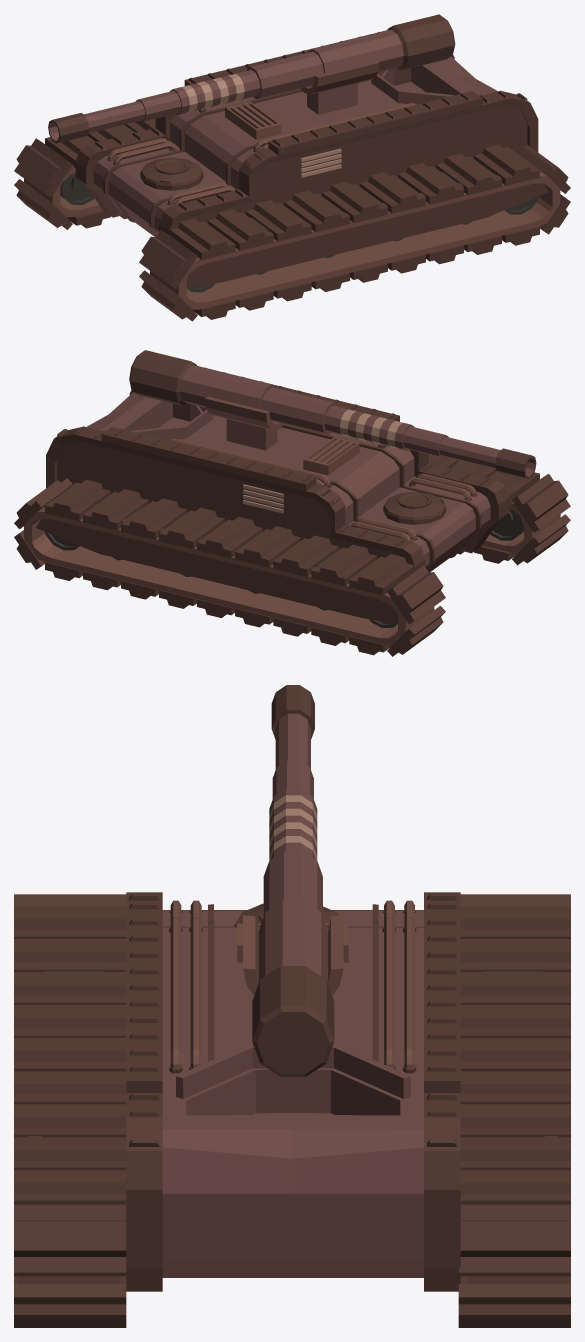
Rendered from Tank4.obj.
3 renders of one model, top to bottom at view 1: azimuth 30°, elevation 25°; view 2: azimuth 150°, elevation 25°; view 3: azimuth 270°, elevation 25°, orthographic. The views are drawn at different scales.
Parts seen in each view (by area): view 1: Tank_body.001_p0, TrackMesh.L, Tank_body.001_p3, Tank_body.001_p1, Tank_Gun_p0, TrackMesh.R, Tank_Gun_p1, Tank_body.001_p4, Tank_Turret_p1, Tank_Turret_p0, Tank_Gun_p2, Tank_body.001_p2; view 2: Tank_body.001_p0, TrackMesh.R, Tank_body.001_p3, Tank_body.001_p1, Tank_Gun_p0, TrackMesh.L, Tank_Gun_p1, Tank_body.001_p4, Tank_Turret_p1, Tank_Turret_p0, Tank_Gun_p2, Tank_body.001_p2; view 3: Tank_body.001_p1, TrackMesh.L, TrackMesh.R, Tank_body.001_p0, Tank_Gun_p0, Tank_body.001_p3, Tank_Gun_p1, Tank_Turret_p1, Tank_Gun_p2.
Boxes of the visible parts, left/top/right/bottom form: Tank_body.001_p0: left=75, top=30, right=548, bottom=288; TrackMesh.L: left=139, top=143, right=570, bottom=321; Tank_body.001_p3: left=24, top=101, right=560, bottom=309; Tank_body.001_p1: left=93, top=57, right=498, bottom=237; Tank_Gun_p0: left=49, top=30, right=403, bottom=141; TrackMesh.R: left=14, top=119, right=155, bottom=229; Tank_Gun_p1: left=48, top=14, right=455, bottom=143; Tank_body.001_p4: left=60, top=127, right=539, bottom=292; Tank_Turret_p1: left=301, top=61, right=379, bottom=94; Tank_Turret_p0: left=307, top=83, right=357, bottom=114; Tank_Gun_p2: left=181, top=73, right=244, bottom=112; Tank_body.001_p2: left=300, top=148, right=341, bottom=177; Tank_body.001_p0: left=36, top=366, right=508, bottom=623; TrackMesh.R: left=14, top=478, right=445, bottom=656; Tank_body.001_p3: left=24, top=437, right=560, bottom=645; Tank_body.001_p1: left=86, top=392, right=490, bottom=572; Tank_Gun_p0: left=180, top=365, right=535, bottom=476; TrackMesh.L: left=429, top=454, right=570, bottom=565; Tank_Gun_p1: left=129, top=350, right=536, bottom=479; Tank_body.001_p4: left=45, top=463, right=523, bottom=627; Tank_Turret_p1: left=205, top=396, right=283, bottom=430; Tank_Turret_p0: left=226, top=419, right=277, bottom=450; Tank_Gun_p2: left=339, top=409, right=402, bottom=448; Tank_body.001_p2: left=243, top=484, right=283, bottom=513; Tank_body.001_p1: left=162, top=910, right=423, bottom=1277; TrackMesh.L: left=14, top=894, right=126, bottom=1327; TrackMesh.R: left=458, top=894, right=570, bottom=1327; Tank_body.001_p0: left=28, top=892, right=557, bottom=1291; Tank_Gun_p0: left=258, top=713, right=327, bottom=982; Tank_body.001_p3: left=17, top=900, right=568, bottom=1283; Tank_Gun_p1: left=252, top=685, right=334, bottom=1076; Tank_Turret_p1: left=243, top=915, right=343, bottom=995; Tank_Gun_p2: left=269, top=795, right=317, bottom=860.
Bounding box in the file's own units: 16.14 × 5.98 × 9.98.
